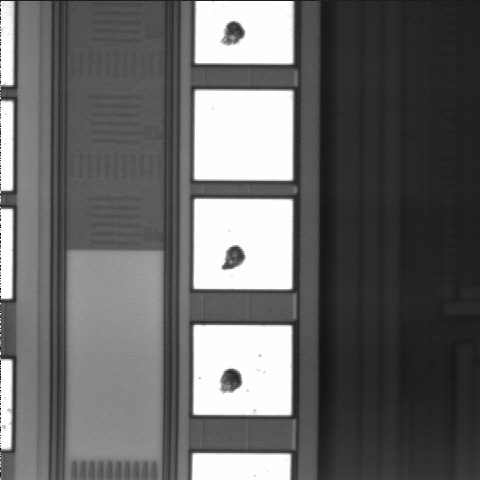pad: (194, 90, 293, 180), (194, 199, 292, 289), (194, 325, 292, 415)
